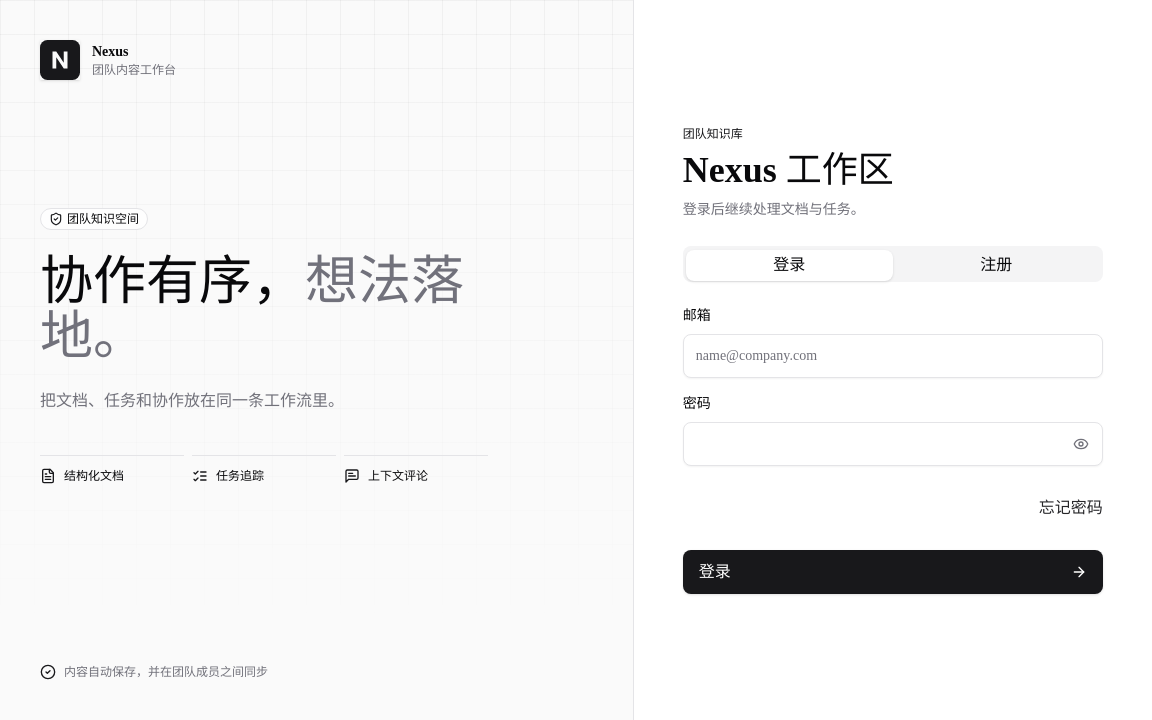
Test: EditorApp › explains when an authentication request cannot reach the server
Type "linxia@example.com" into the field labelled "邮箱" at {"x": 893, "y": 356}, box [683,334,1103,378]
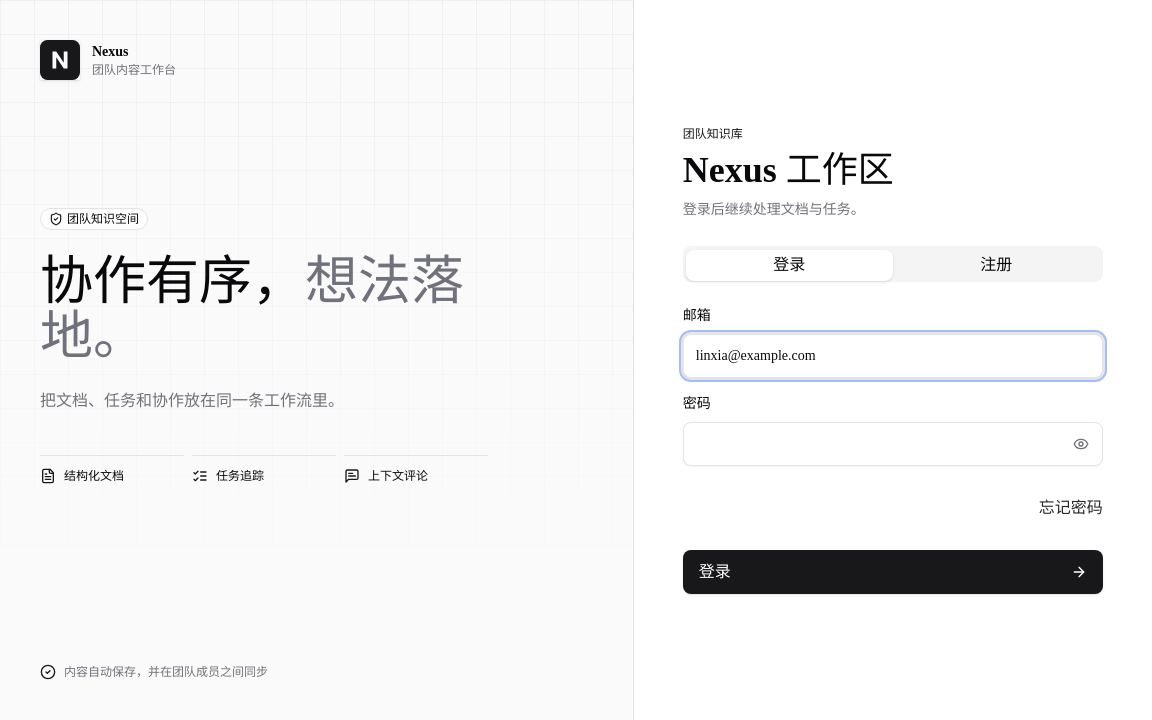
Type "correct horse battery staple" into the password field labelled "密码" at {"x": 893, "y": 444}, box [683,422,1103,466]
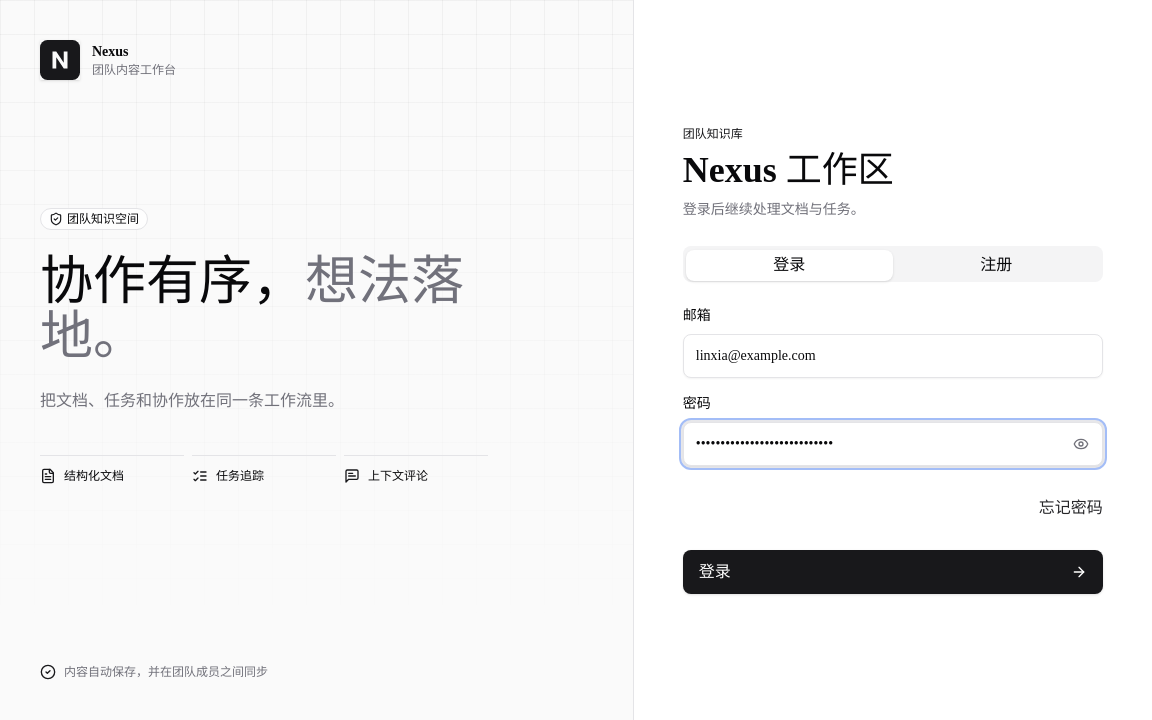
Click the button "登录" at {"x": 715, "y": 572}, box [683,550,1103,594]
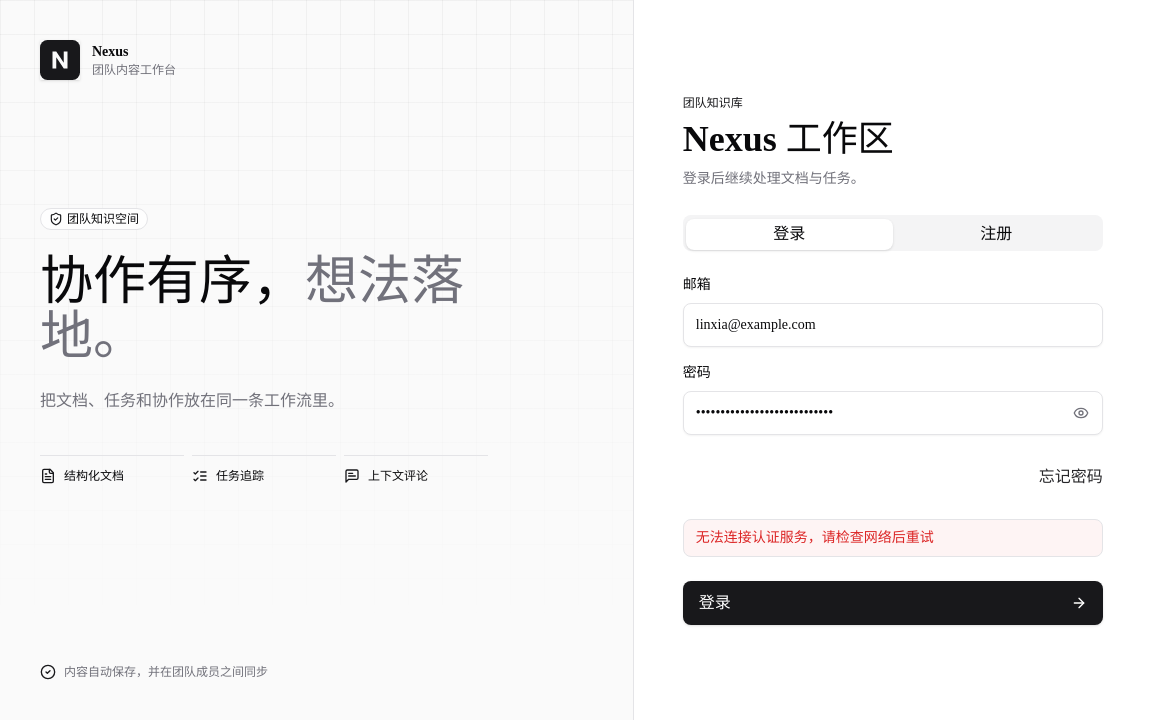
Expected: the message does not show "Failed to fetch", [683,519,1103,557]
Result: the message reads "无法连接认证服务，请检查网络后重试" at [696,530,934,545]
